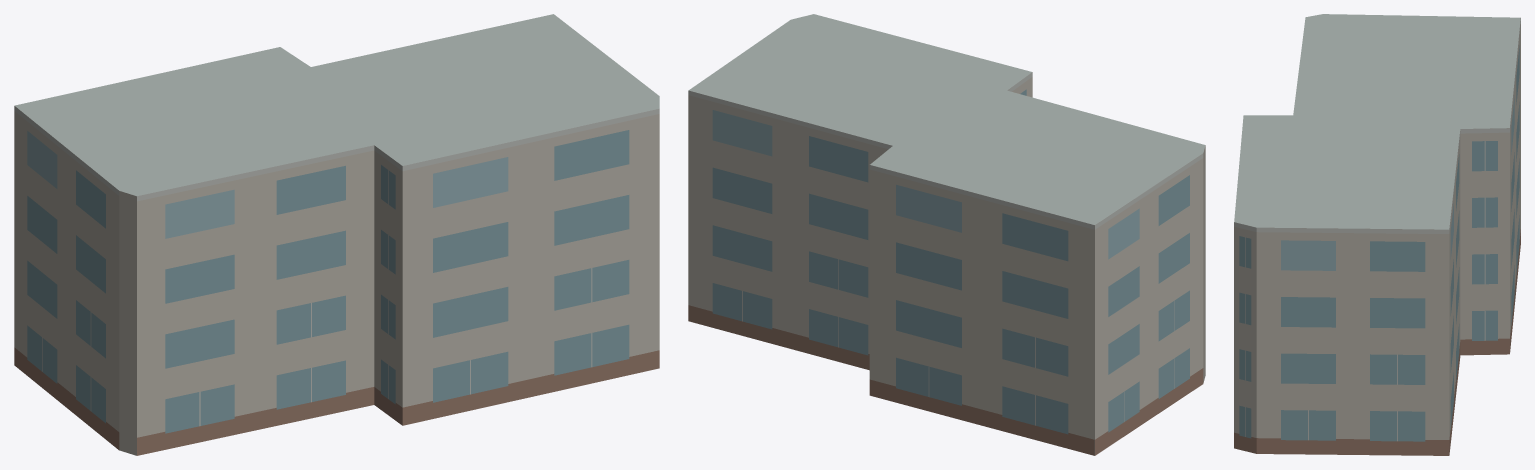
Rendered from survey-upis-32755506.glb.
The picture shows the model from 3 angles, left to right: view 1: azimuth 30°, elevation 25°; view 2: azimuth 150°, elevation 25°; view 3: azimuth 270°, elevation 25°; orthographic projection. The views are drawn at different scales.
Visible parts, largest first — view 1: survey-upis-32755506.tmp; view 2: survey-upis-32755506.tmp; view 3: survey-upis-32755506.tmp.
Boxes of the visible parts, left/top/right/bottom form: survey-upis-32755506.tmp: left=14, top=14, right=659, bottom=455; survey-upis-32755506.tmp: left=688, top=14, right=1205, bottom=455; survey-upis-32755506.tmp: left=1234, top=14, right=1520, bottom=455.
Bounding box in the file's own units: 24.94 × 12.2 × 14.02.
